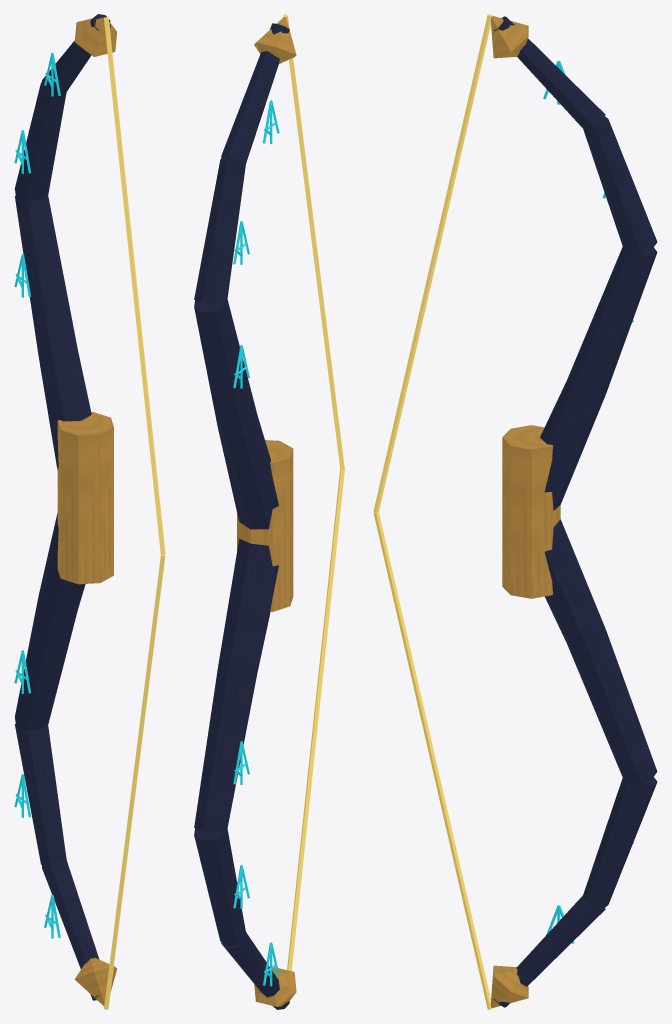
File: bow.glb
The picture shows the model from 3 angles, left to right: view 1: azimuth 30°, elevation 25°; view 2: azimuth 150°, elevation 25°; view 3: azimuth 270°, elevation 25°; orthographic projection.
Parts seen in each view (by area): view 1: bow; view 2: bow; view 3: bow.
Part boxes in pixels (x1,y1,x2,y2): bow: [14, 14, 165, 1009]; bow: [194, 14, 344, 1009]; bow: [373, 14, 657, 1009].
Bounding box in the file's own units: 0.064 × 1.2 × 0.311.
1 material, 1 textured.
